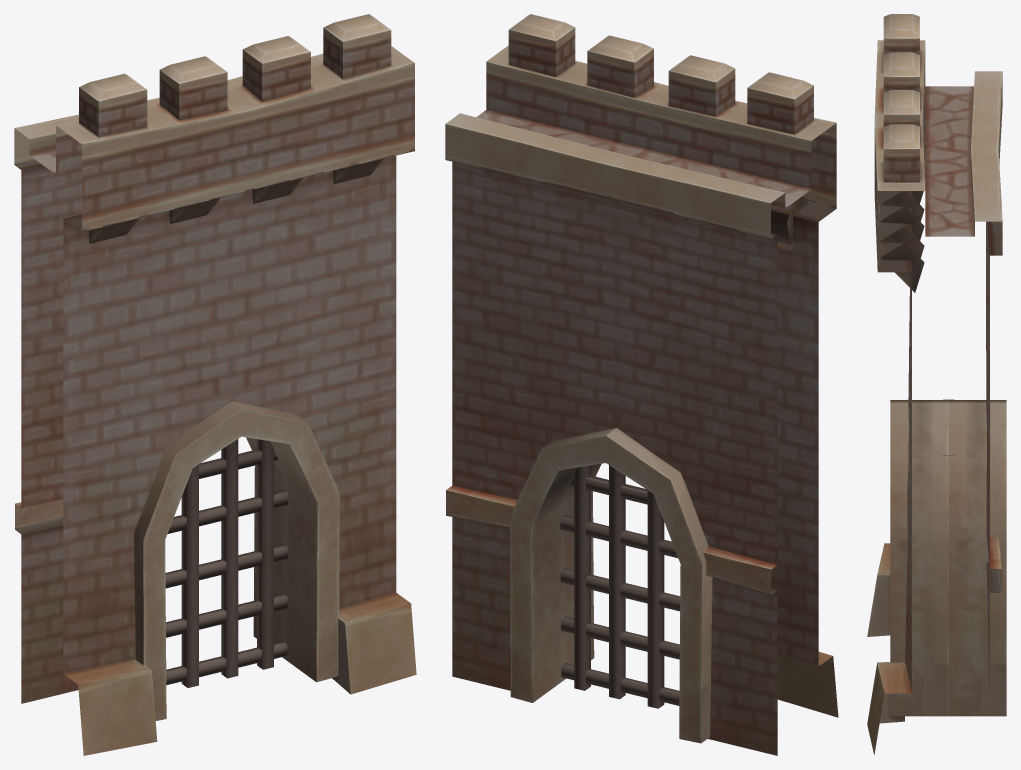
The model's file is castleWalls_bigWall_2.FBX.
3 views of the same model, side by side, from view 1: azimuth 30°, elevation 25°; view 2: azimuth 150°, elevation 25°; view 3: azimuth 270°, elevation 25° (orthographic). The views are drawn at different scales.
Visible parts, largest first — view 1: castleWalls_bigWall_2; view 2: castleWalls_bigWall_2; view 3: castleWalls_bigWall_2.
Boxes of the visible parts, x1,y1,x2,y2 form: castleWalls_bigWall_2: (14, 14, 416, 755); castleWalls_bigWall_2: (445, 14, 838, 755); castleWalls_bigWall_2: (867, 14, 1006, 754).
Bounding box in the file's own units: 302 × 564 × 118.
1 material, 1 textured.
